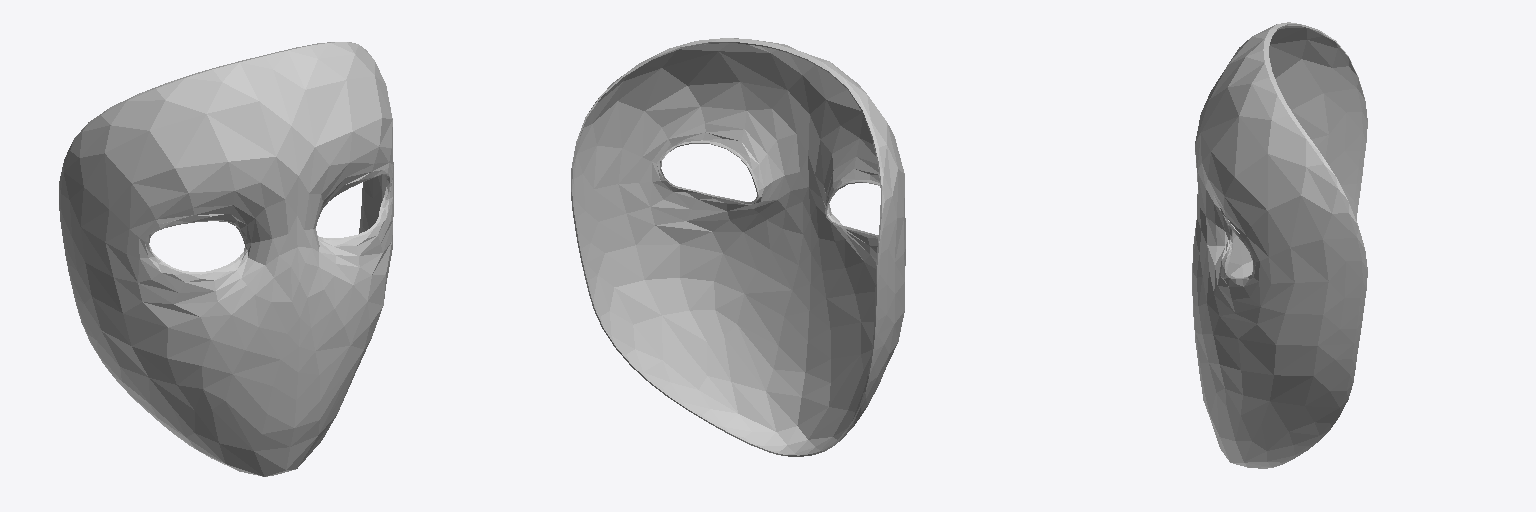
Rendered from slim_v3.obj.
The picture shows the model from 3 angles: view 1: azimuth 30°, elevation 25°; view 2: azimuth 150°, elevation 25°; view 3: azimuth 270°, elevation 25°; orthographic projection.
Parts seen in each view (by area): view 1: body_Circle; view 2: body_Circle; view 3: body_Circle.
Boxes of the visible parts, x1=… form: body_Circle: x1=59, y1=42, x2=393, y2=476; body_Circle: x1=571, y1=38, x2=905, y2=456; body_Circle: x1=1192, y1=22, x2=1367, y2=468.
Size of the model in its own units: 158 by 202 by 78.16.